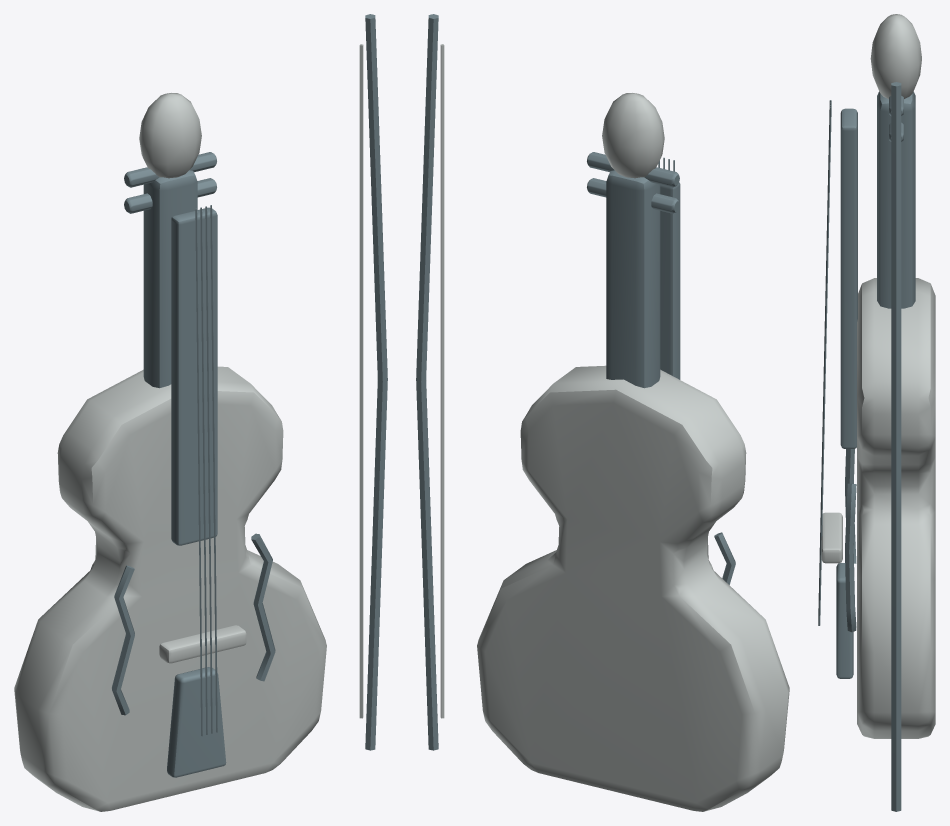
Rendered from violin.glb.
3 views of the same model, side by side, from view 1: azimuth 30°, elevation 25°; view 2: azimuth 150°, elevation 25°; view 3: azimuth 270°, elevation 25° (orthographic).
Parts seen in each view (by area): view 1: waisted_body, fingerboard, bow, neck, tailpiece, scroll, bow_hair, bridge, soundhole, soundhole.001, string, string.001 (+4 smaller); view 2: waisted_body, neck, bow, scroll, fingerboard, bow_hair, tuning_peg.001, tuning_peg; view 3: waisted_body, bow, neck, fingerboard, scroll, tailpiece, soundhole.001, string.003, bridge, soundhole.
Part boxes in pixels (x1,y1,x2,y2): waisted_body: (14,366,326,811); fingerboard: (171,207,217,545); bow: (365,14,387,750); neck: (143,170,197,388); tailpiece: (167,667,226,777); scroll: (139,93,201,178); bow_hair: (359,44,363,718); bridge: (159,625,246,663); soundhole: (112,565,134,715); soundhole.001: (251,533,275,681); string: (195,208,202,736); string.001: (200,207,207,734); waisted_body: (477,365,789,811); neck: (606,170,660,388); bow: (416,14,438,750); scroll: (602,93,664,178); fingerboard: (660,182,680,379); bow_hair: (440,44,444,718); tuning_peg.001: (587,152,679,187); tuning_peg: (587,178,679,213); waisted_body: (857,278,935,738); bow: (891,82,901,811); neck: (877,91,915,308); fingerboard: (840,108,857,448); scroll: (870,14,921,99); tailpiece: (836,563,853,678); soundhole.001: (845,483,856,632); string.003: (818,107,831,625); bridge: (821,512,842,563); soundhole: (845,449,856,563).
Size of the model in its own units: 0.289 by 0.5603 by 0.0822.
